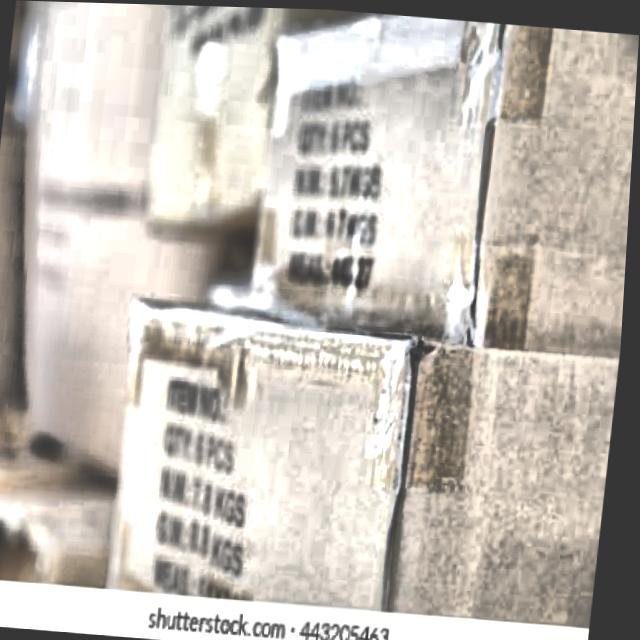Cardbox: (102, 3, 528, 640), (98, 296, 437, 640)
